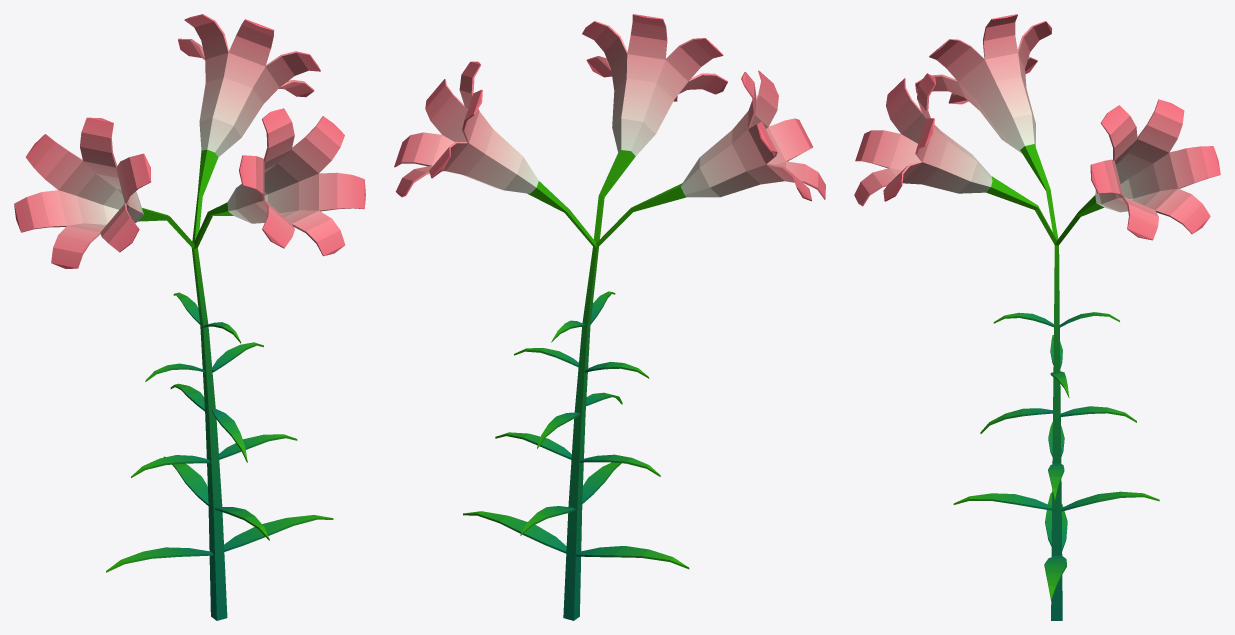
File: RapidityFlower.fbx
3 renders of one model, left to right at view 1: azimuth 30°, elevation 25°; view 2: azimuth 150°, elevation 25°; view 3: azimuth 270°, elevation 25°, orthographic. The views are drawn at different scales.
Visible parts, largest first — view 1: Flowers, Stem, Leaf.012, Leaf.018, Leaf.005, Leaf.002, Leaf.014, Leaf.013, Leaf.017; view 2: Flowers, Stem, Leaf.012, Leaf.018, Leaf.017, Leaf.002; view 3: Flowers, Stem, Leaf.017, Leaf.005, Leaf.012.
Boxes of the visible parts, x1,y1,x2,y2 form: Flowers: (14,14,365,268); Stem: (167,194,227,620); Leaf.012: (224,515,333,551); Leaf.018: (106,547,213,572); Leaf.005: (163,456,208,505); Leaf.002: (219,434,297,459); Leaf.014: (131,455,210,477); Leaf.013: (212,409,247,462); Leaf.017: (215,507,269,540); Flowers: (394,14,825,212); Stem: (563,196,632,620); Leaf.012: (463,511,566,553); Leaf.018: (576,546,689,569); Leaf.017: (582,462,621,503); Leaf.002: (495,432,571,459); Flowers: (854,14,1220,240); Stem: (1035,189,1080,620); Leaf.017: (953,493,1051,510); Leaf.005: (1061,491,1159,511); Leaf.012: (1044,555,1066,600).
Size of the model in its own units: 961 by 1466 by 900.
